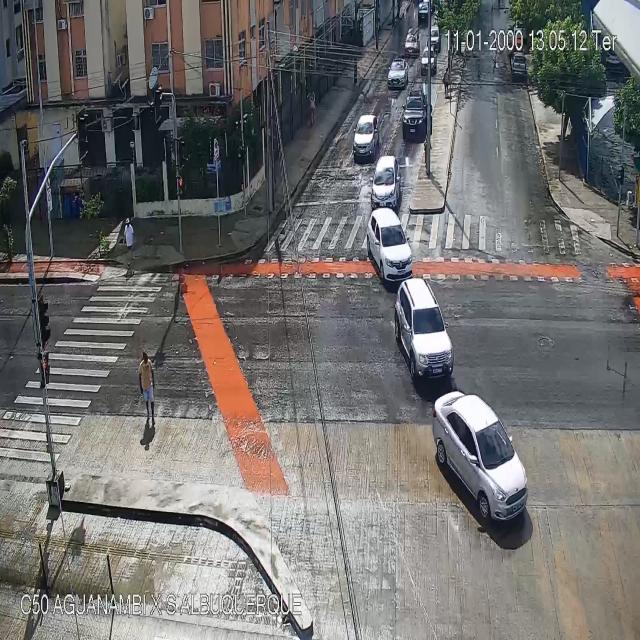Car: (432, 390, 530, 527), (395, 278, 453, 385), (366, 208, 414, 286), (371, 157, 403, 212), (402, 92, 430, 144), (353, 115, 379, 162), (387, 56, 408, 89), (420, 47, 436, 76), (404, 28, 420, 54), (512, 53, 526, 79), (425, 24, 439, 48)
